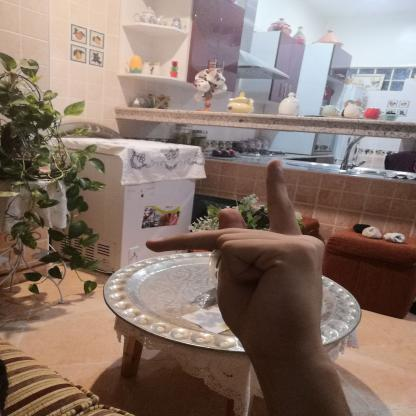DHAA: (132, 148, 340, 371)
